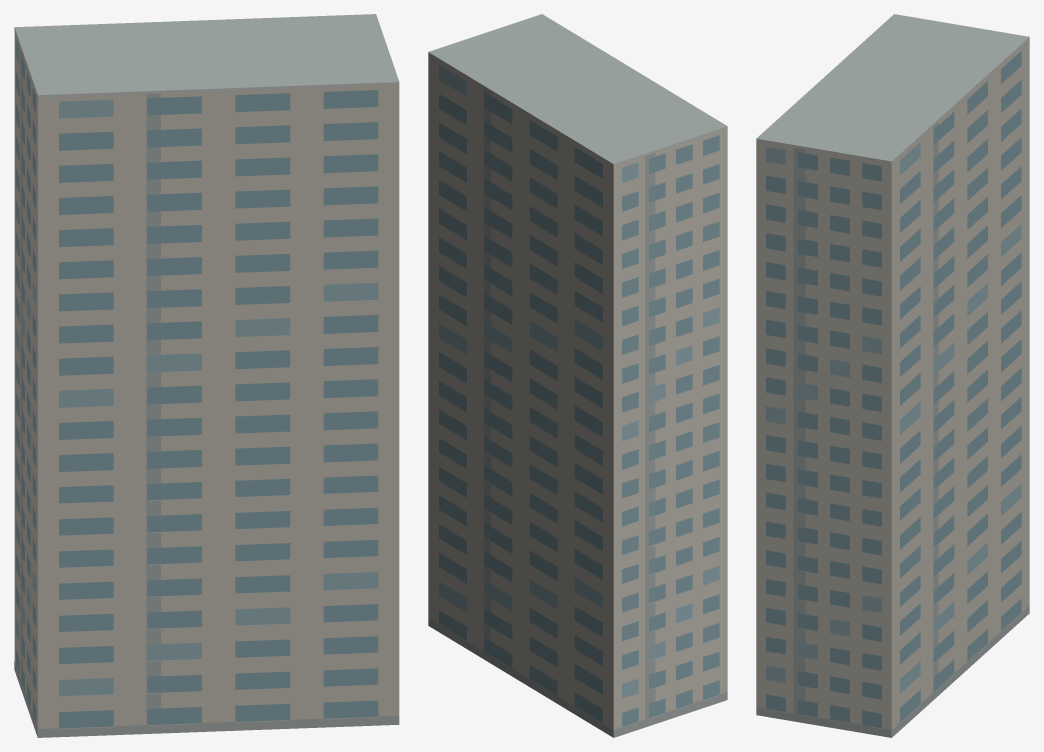
File: residential-2c05d89e-86a9-4030-a34d-ba12977d6e63.glb
3 views of the same model, side by side, from view 1: azimuth 30°, elevation 25°; view 2: azimuth 150°, elevation 25°; view 3: azimuth 270°, elevation 25° (orthographic). The views are drawn at different scales.
Parts seen in each view (by area): view 1: residential-2c05d89e-86a9-4030-a34d-ba12977d6e63.tmp; view 2: residential-2c05d89e-86a9-4030-a34d-ba12977d6e63.tmp; view 3: residential-2c05d89e-86a9-4030-a34d-ba12977d6e63.tmp.
Part boxes in pixels (x1,y1,x2,y2): residential-2c05d89e-86a9-4030-a34d-ba12977d6e63.tmp: (14, 14, 399, 737); residential-2c05d89e-86a9-4030-a34d-ba12977d6e63.tmp: (428, 14, 727, 737); residential-2c05d89e-86a9-4030-a34d-ba12977d6e63.tmp: (756, 14, 1029, 737).
Size of the model in its own units: 31.83 by 58 by 24.95.
